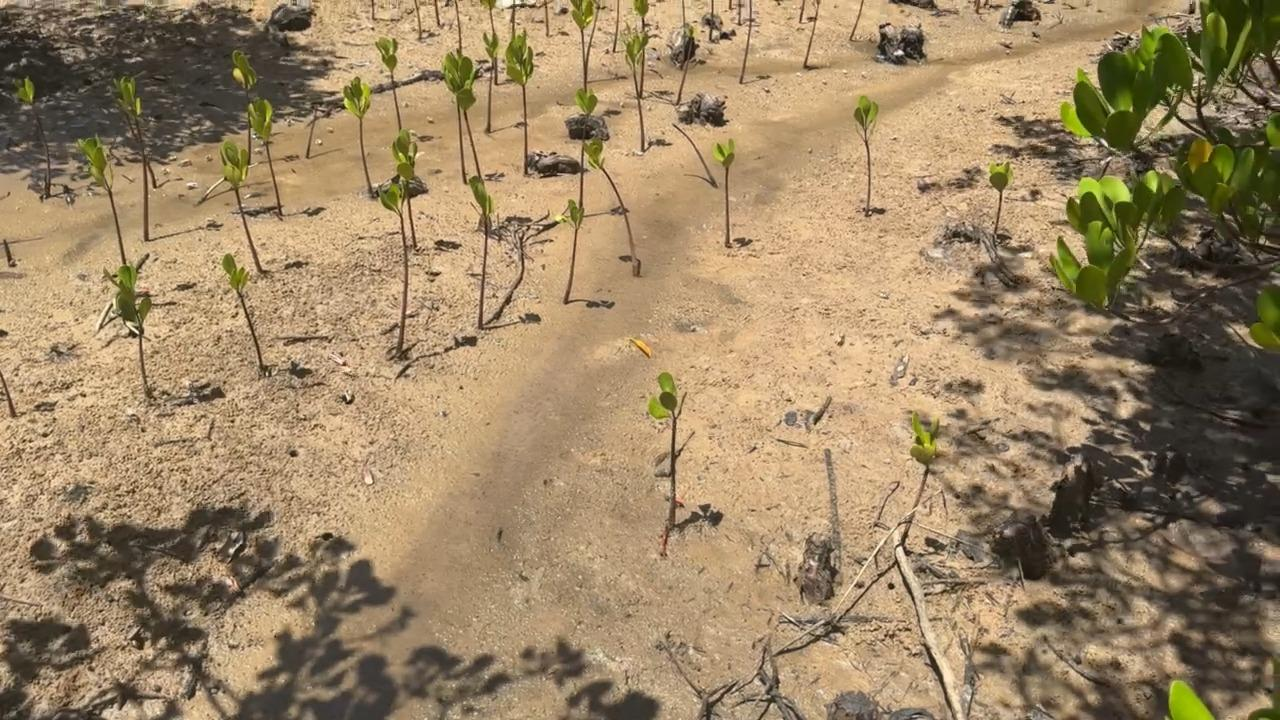Tree: (377, 127, 416, 356), (375, 36, 416, 247), (584, 138, 641, 276), (104, 263, 154, 397), (109, 76, 149, 240), (78, 134, 125, 263), (649, 372, 688, 525), (220, 139, 263, 271), (108, 75, 156, 187), (442, 49, 482, 176), (900, 412, 939, 541), (222, 253, 264, 367), (503, 28, 535, 173), (14, 74, 51, 198), (247, 98, 282, 213), (467, 175, 493, 328), (343, 76, 373, 191), (624, 23, 650, 153), (557, 199, 587, 303), (853, 96, 878, 216), (570, 0, 601, 94), (231, 50, 256, 163), (576, 88, 597, 207), (713, 137, 734, 245), (454, 0, 466, 182), (990, 161, 1014, 234), (482, 32, 498, 132), (677, 24, 696, 104), (803, 0, 821, 68), (740, 0, 751, 84), (0, 366, 17, 418), (849, 0, 867, 39), (306, 106, 319, 157), (481, 0, 497, 35), (414, 0, 423, 38), (544, 0, 551, 35), (708, 0, 714, 40), (433, 0, 441, 27), (510, 0, 516, 34), (799, 0, 806, 24), (680, 0, 686, 25), (372, 0, 375, 20)
